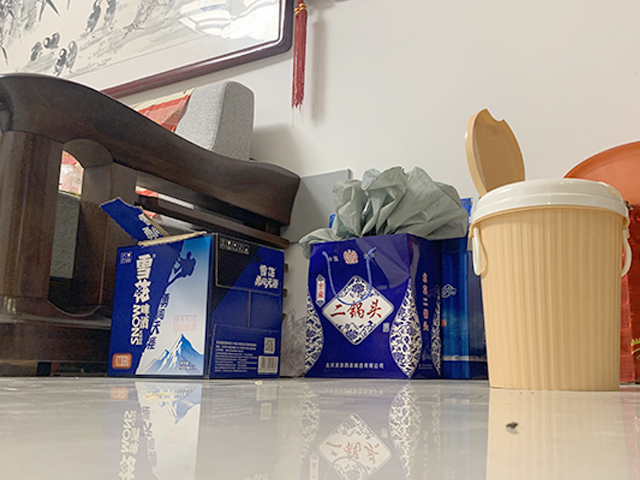sofa: (1, 72, 300, 377)
trashcan: (465, 107, 632, 392)
